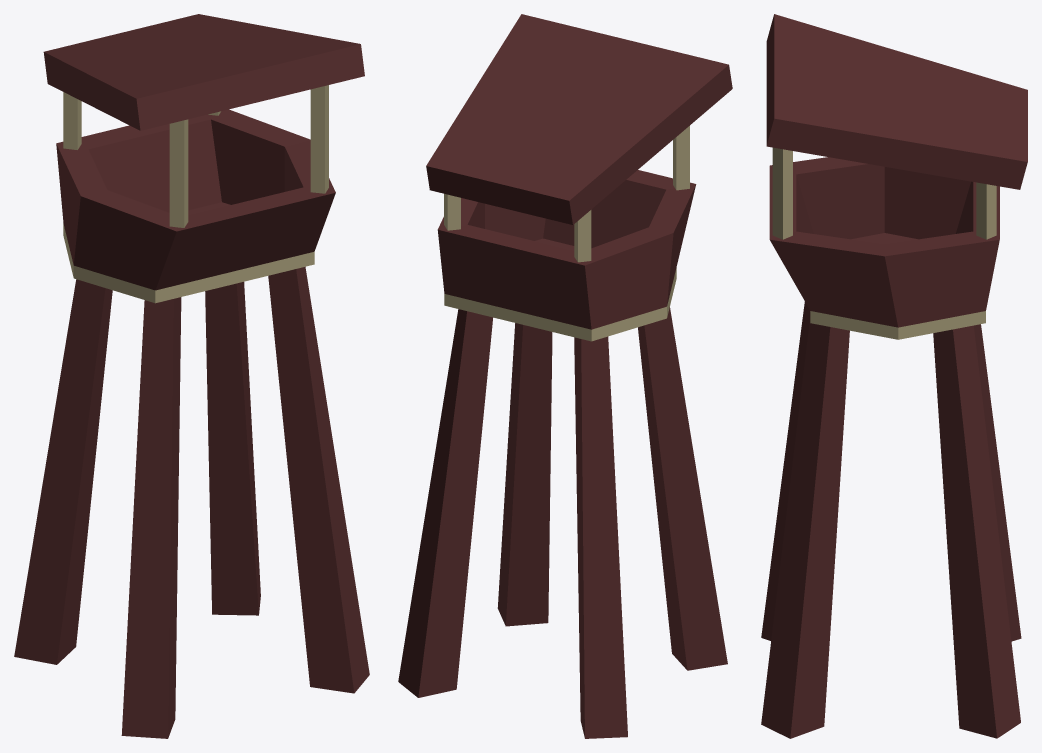
The model's file is watchtower.fbx.
The picture shows the model from 3 angles, left to right: view 1: azimuth 30°, elevation 25°; view 2: azimuth 150°, elevation 25°; view 3: azimuth 270°, elevation 25°; orthographic projection. The views are drawn at different scales.
Parts seen in each view (by area): view 1: Watchtower; view 2: Watchtower; view 3: Watchtower.
Part boxes in pixels (x1,y1,x2,y2): Watchtower: [14, 14, 369, 738]; Watchtower: [398, 14, 732, 738]; Watchtower: [761, 14, 1027, 738].
Size of the model in its own units: 406 by 1001 by 395.
